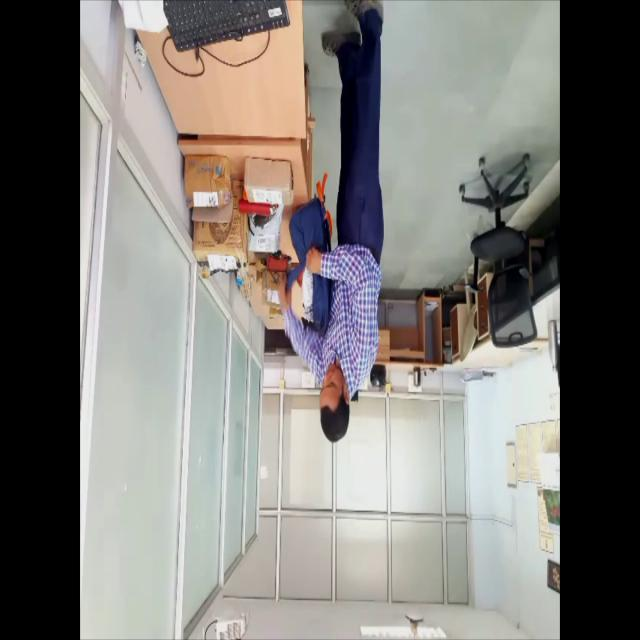shoplifting: (274, 0, 395, 461)
